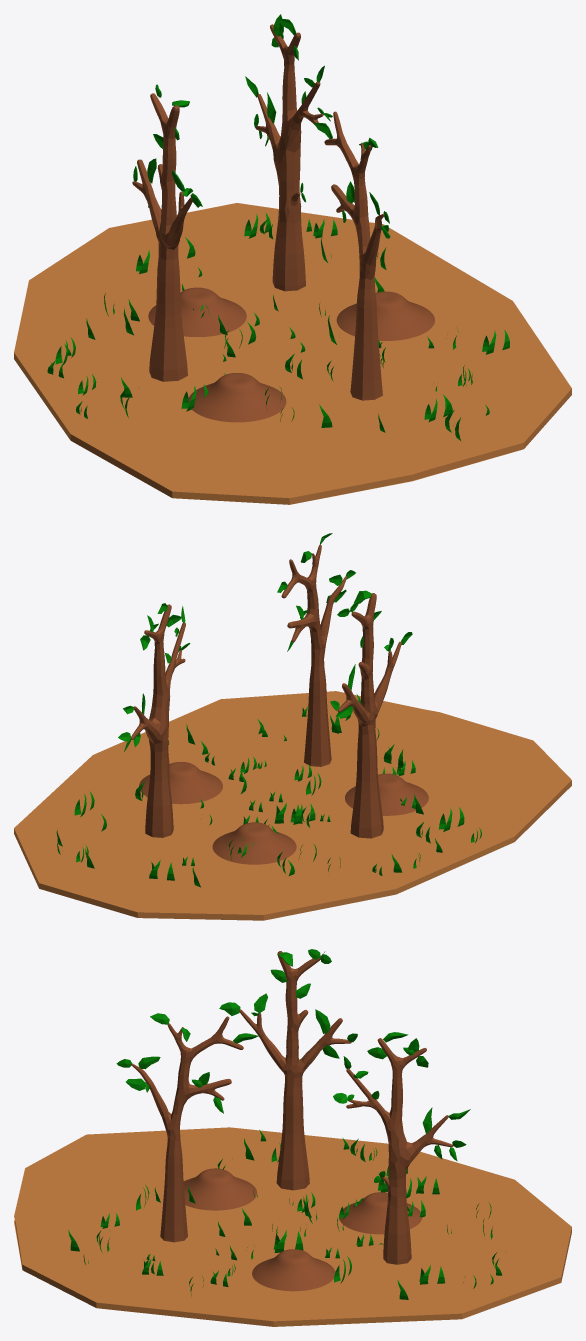
File: MiddleSizeTrees.glb
The picture shows the model from 3 angles, top to bottom: view 1: azimuth 30°, elevation 25°; view 2: azimuth 150°, elevation 25°; view 3: azimuth 270°, elevation 25°; orthographic projection. The views are drawn at different scales.
Visible parts, largest first — view 1: Plane; view 2: Plane; view 3: Plane.
Part boxes in pixels (x1=…): Plane: x1=14, y1=14, x2=571, y2=504; Plane: x1=14, y1=533, x2=571, y2=920; Plane: x1=14, y1=949, x2=571, y2=1326.
Size of the model in its own units: 3.89 by 2.41 by 4.73.
